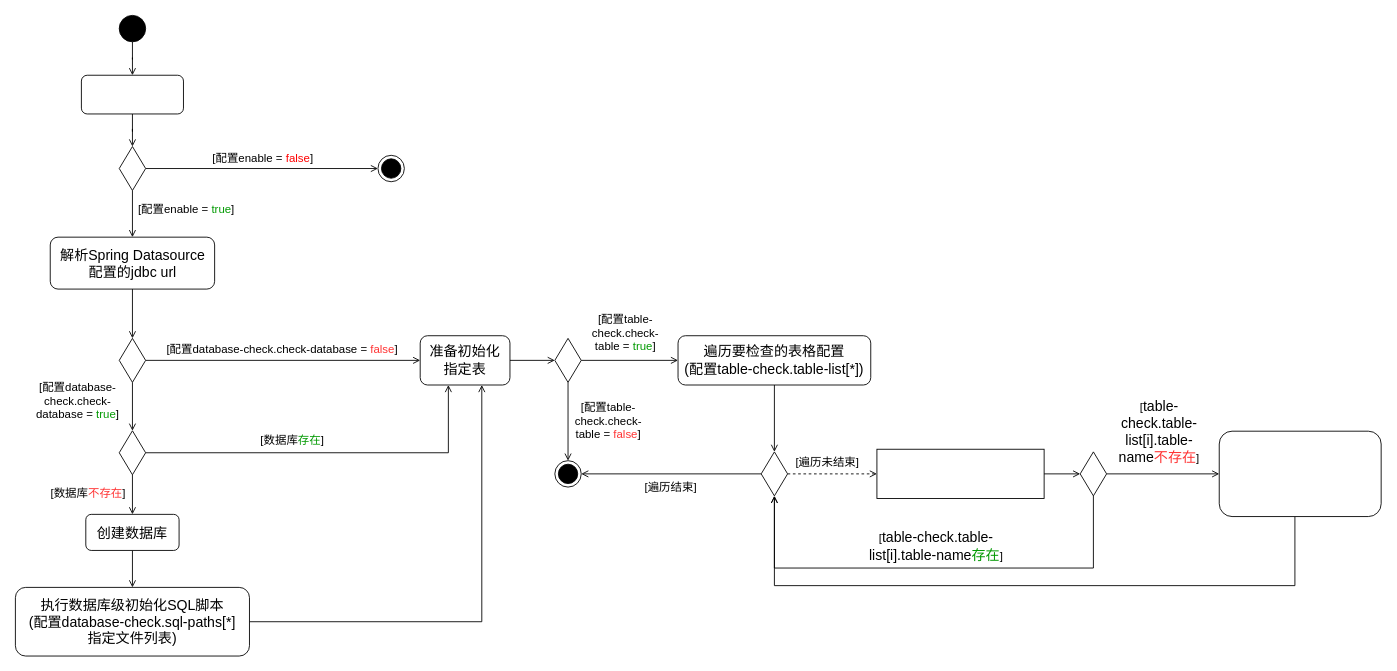
Image size: 1397x671. Some labels were removed from this diagram. The shapes that lost their labels are listed below. From the top down, each one's centre as x and y in pixels, then its label:
the point at 132,94: Starter加载
the point at 960,473: 特定表格初始化配置 ( table-check.table-list[i] )
the point at 1299,473: 执行该配置中 表级初始化SQL脚本 (配置 table-check.table-list[i].sql-paths[*] )
